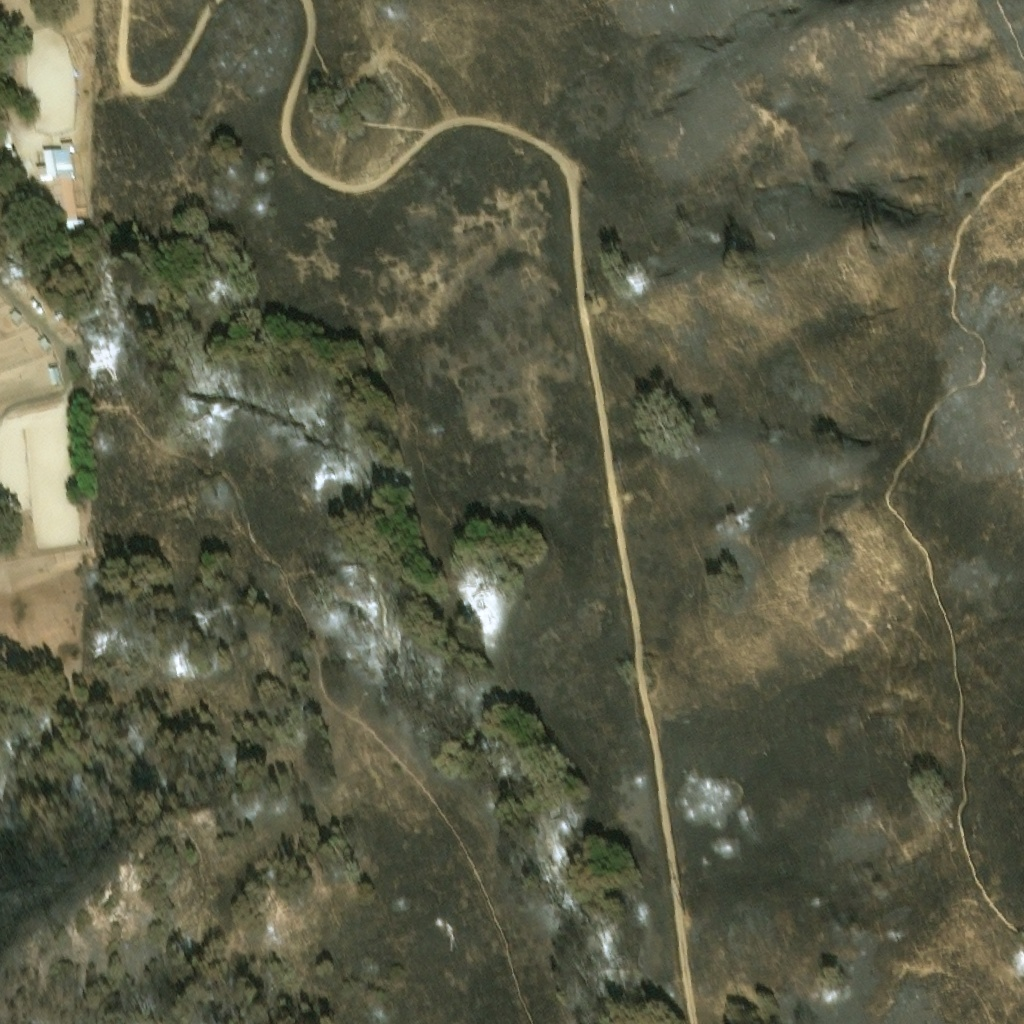0 no-damage: (52, 175, 79, 224), (36, 148, 76, 179), (47, 367, 62, 387), (67, 220, 84, 233), (8, 310, 23, 324), (38, 338, 52, 350), (59, 140, 72, 148), (54, 313, 64, 323), (2, 273, 11, 282), (35, 306, 44, 314), (30, 300, 38, 308)
